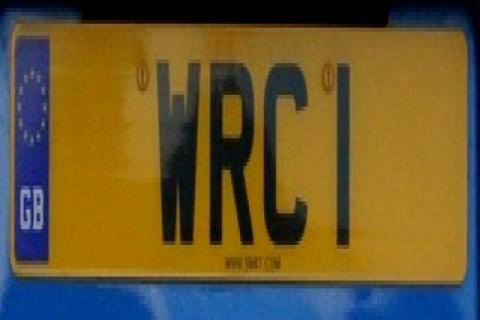LicensePlate: (4, 10, 474, 299)
